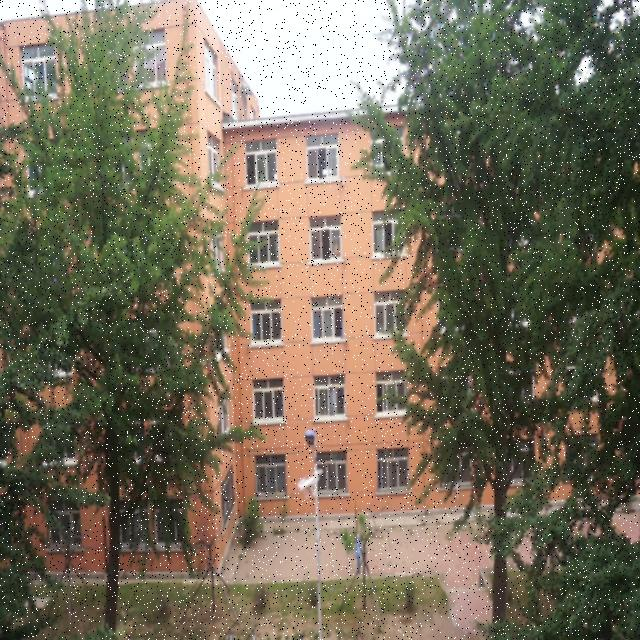UAV: (296, 468, 324, 500)
